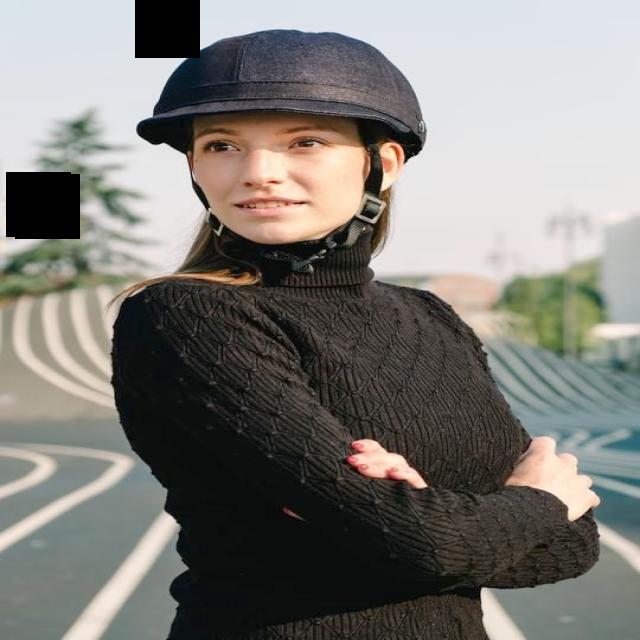Helmet: (137, 30, 426, 158)
